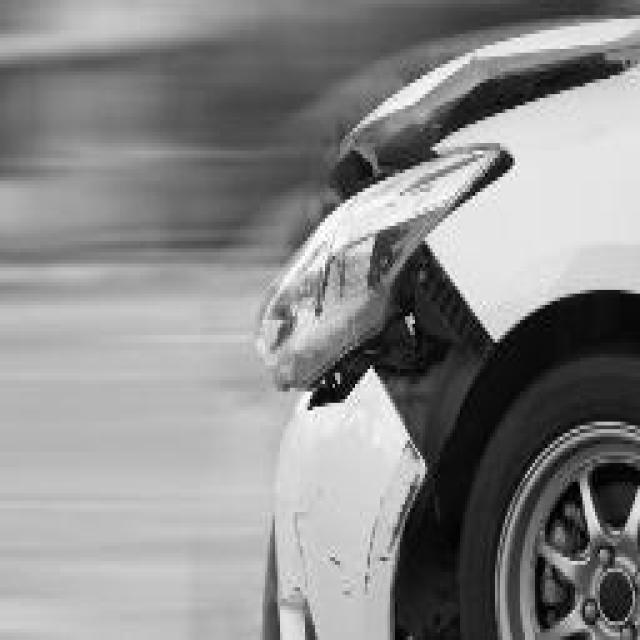Bonnet: (324, 9, 640, 200)
Bumper: (272, 252, 489, 640)
Light: (248, 143, 503, 401)
